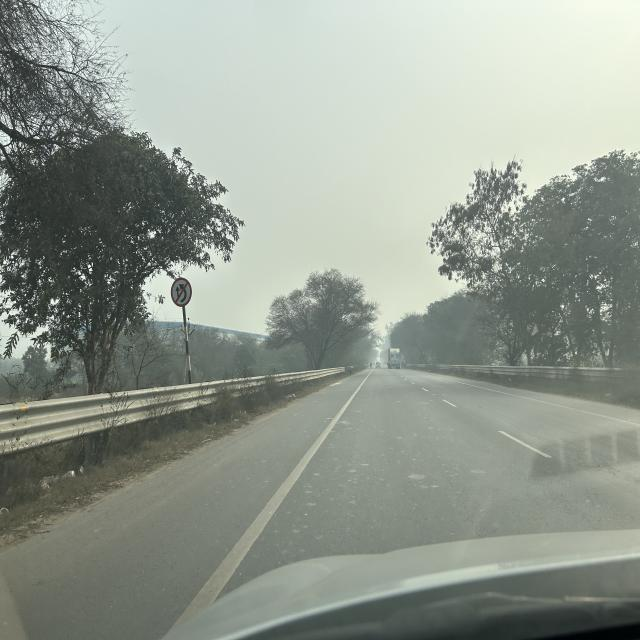OVERTAKING_PROHIBITED: (170, 277, 192, 307)
